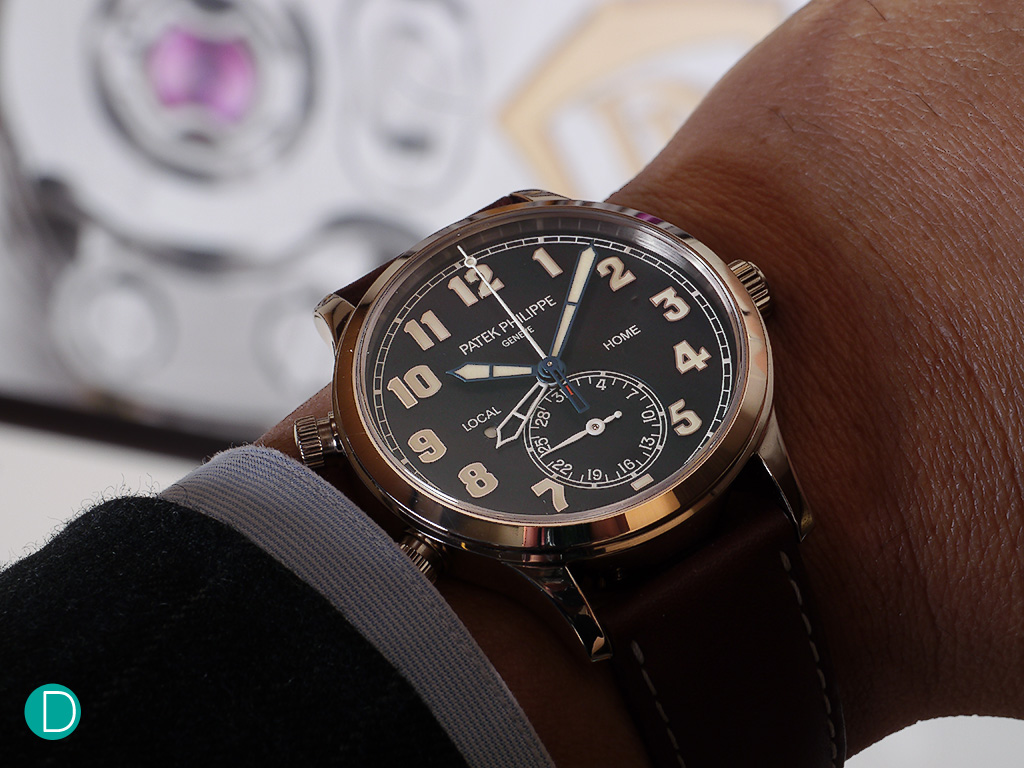clock: (358, 217, 749, 518)
